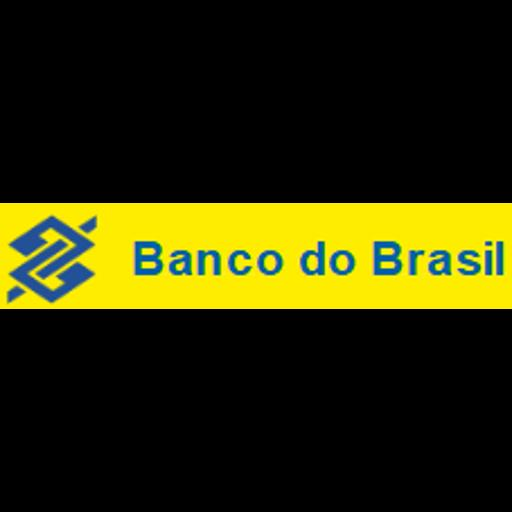Banco do Brasil S-A: (0, 203, 512, 309)
